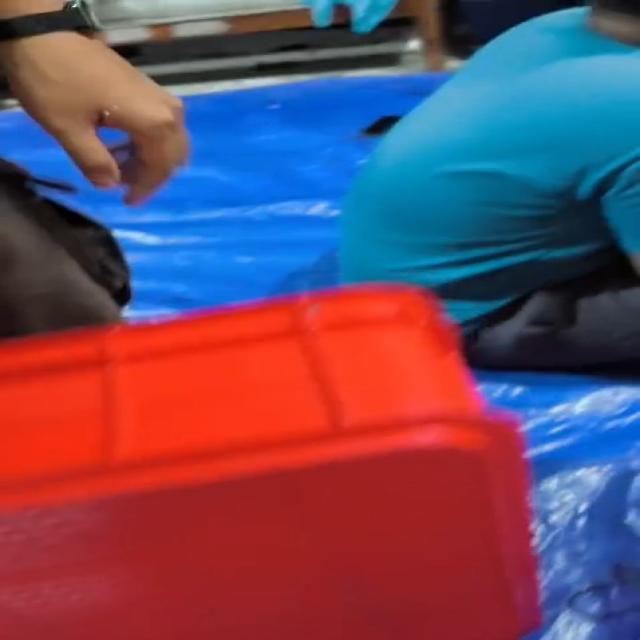red plastic box: (0, 281, 538, 639)
